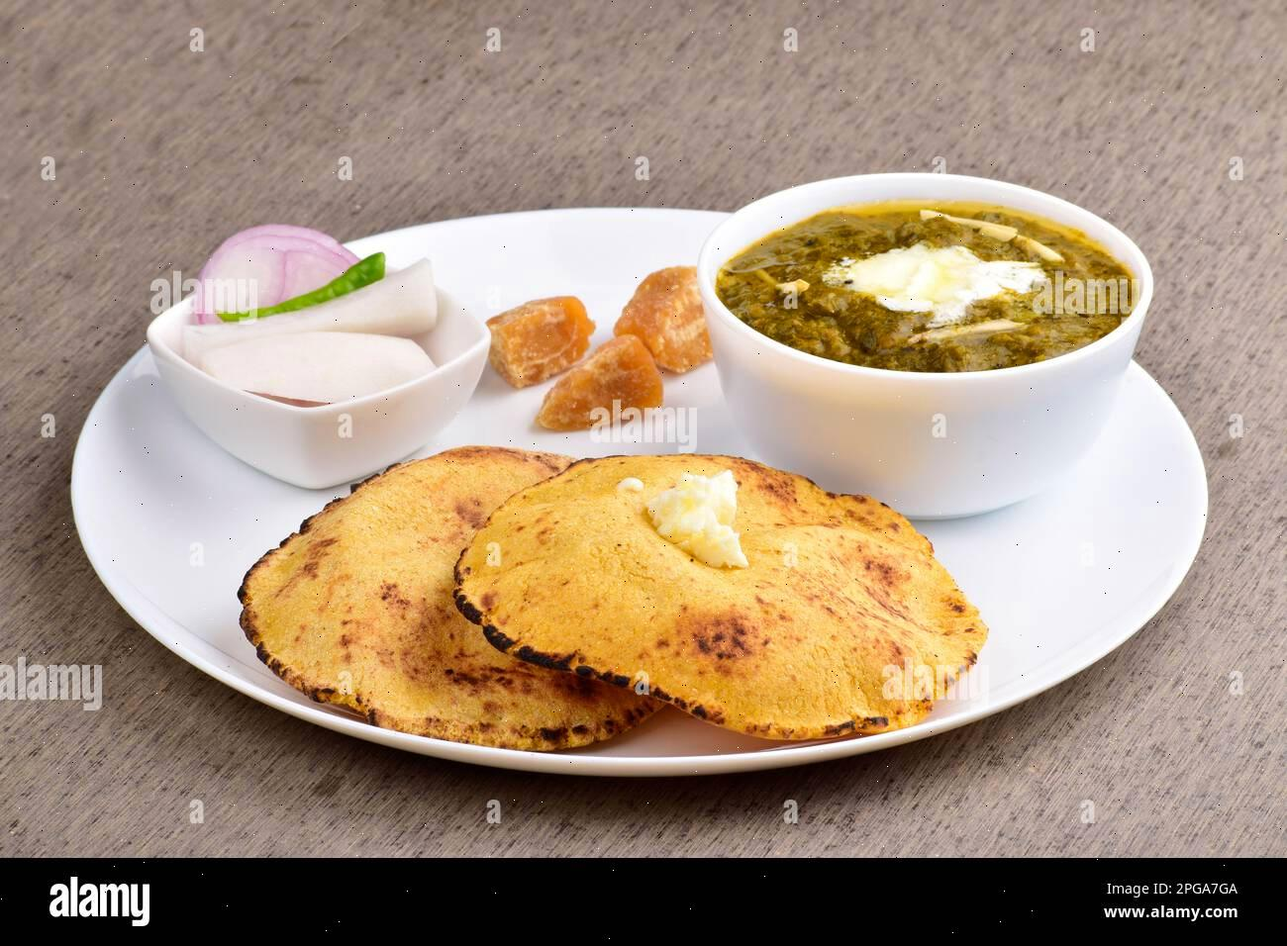saag: (723, 203, 1132, 373)
